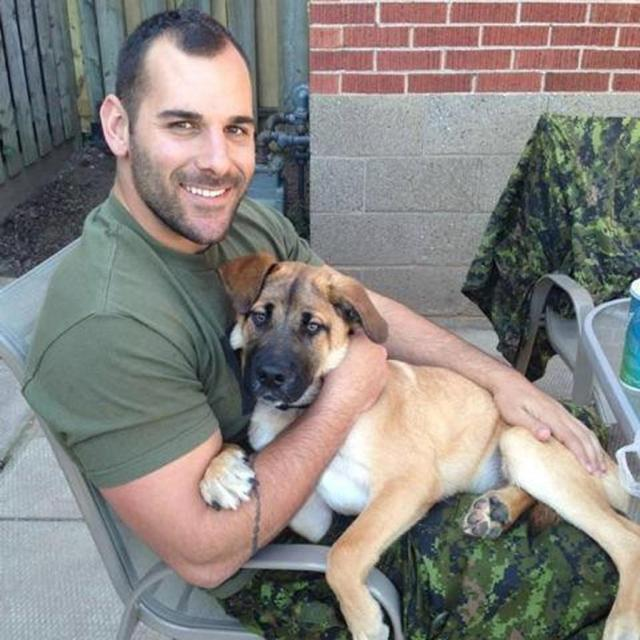Face: (121, 38, 262, 241)
